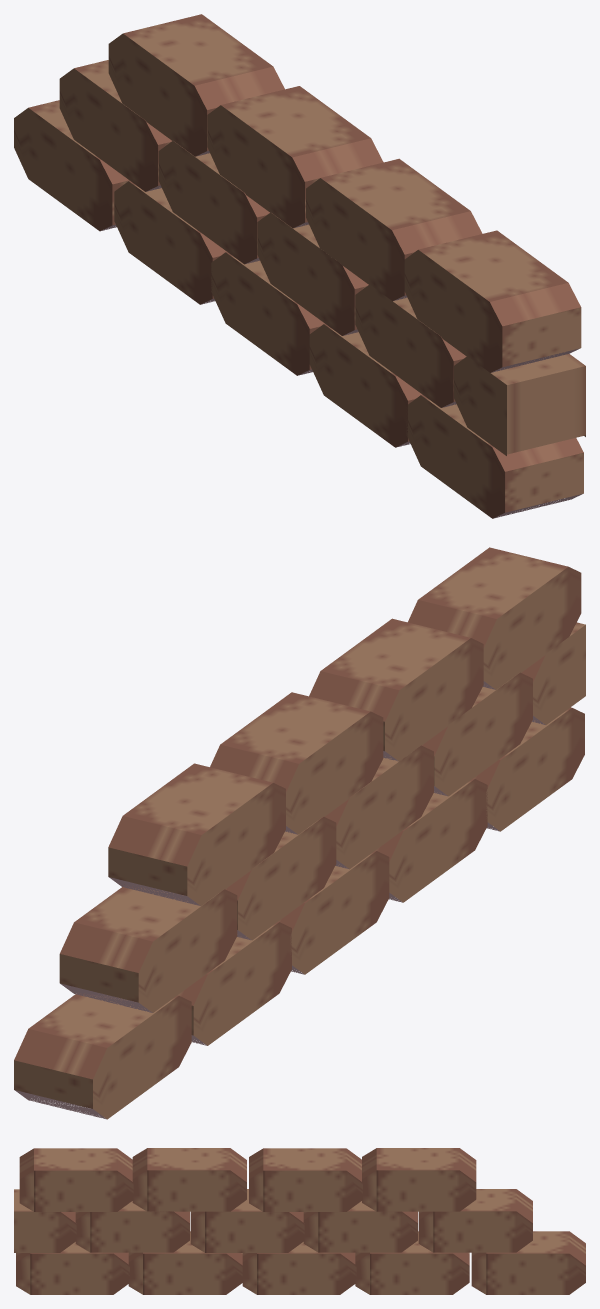
The model's file is Barricada.fbx.
3 views of the same model, one above another, from view 1: azimuth 30°, elevation 25°; view 2: azimuth 150°, elevation 25°; view 3: azimuth 270°, elevation 25° (orthographic). The views are drawn at different scales.
Visible parts, largest first — view 1: Barricada; view 2: Barricada; view 3: Barricada.
Boxes of the visible parts, box(x1,y1,x2,y2) form: Barricada: box(14, 14, 585, 518); Barricada: box(14, 547, 585, 1119); Barricada: box(14, 1148, 585, 1294).
Bounding box in the file's own units: 57.04 × 613 × 147.
